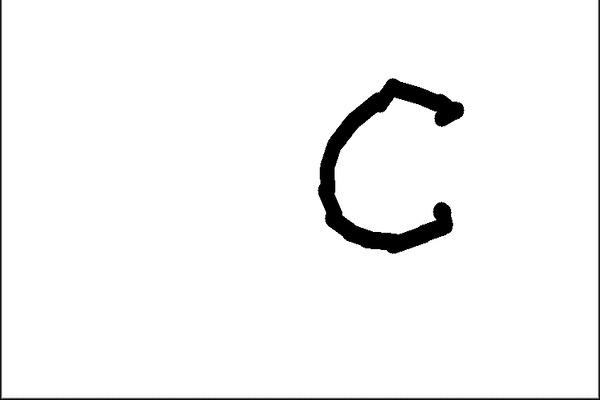C: (312, 74, 466, 256)
